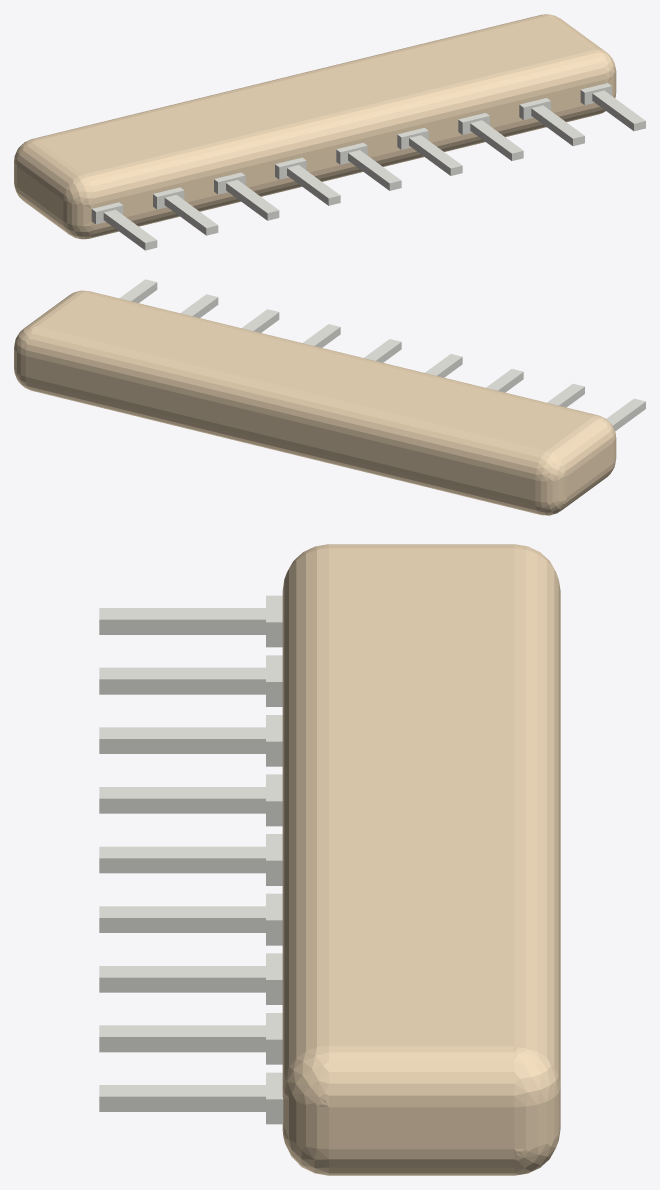
Rendered from R_Array_SIP9.glb.
3 views of the same model, one above another, from view 1: azimuth 30°, elevation 25°; view 2: azimuth 150°, elevation 25°; view 3: azimuth 270°, elevation 25° (orthographic). The views are drawn at different scales.
Parts seen in each view (by area): view 1: Shape_IndexedFaceSet.059, Shape_IndexedFaceSet.022, Shape_IndexedFaceSet.014, Shape_IndexedFaceSet.006, Shape_IndexedFaceSet.021, Shape_IndexedFaceSet.017, Shape_IndexedFaceSet.012, Shape_IndexedFaceSet.063, Shape_IndexedFaceSet.020, Shape_IndexedFaceSet.107, Shape_IndexedFaceSet.095, Shape_IndexedFaceSet.099 (+12 smaller); view 2: Shape_IndexedFaceSet.059, Shape_IndexedFaceSet.017, Shape_IndexedFaceSet.007, Shape_IndexedFaceSet.003, Shape_IndexedFaceSet.021, Shape_IndexedFaceSet.022, Shape_IndexedFaceSet.012, Shape_IndexedFaceSet.058, Shape_IndexedFaceSet.016, Shape_IndexedFaceSet.005, Shape_IndexedFaceSet.018, Shape_IndexedFaceSet.009 (+2 smaller); view 3: Shape_IndexedFaceSet.059, Shape_IndexedFaceSet.022, Shape_IndexedFaceSet.017, Shape_IndexedFaceSet.018, Shape_IndexedFaceSet.010, Shape_IndexedFaceSet.004, Shape_IndexedFaceSet.074, Shape_IndexedFaceSet.078, Shape_IndexedFaceSet.086, Shape_IndexedFaceSet.090, Shape_IndexedFaceSet.094, Shape_IndexedFaceSet.098 (+19 smaller).
Boxes of the visible parts, <box> form: Shape_IndexedFaceSet.059: <box>37,16,592,174</box>; Shape_IndexedFaceSet.022: <box>83,50,604,203</box>; Shape_IndexedFaceSet.014: <box>95,79,604,224</box>; Shape_IndexedFaceSet.006: <box>90,103,603,238</box>; Shape_IndexedFaceSet.021: <box>17,141,82,199</box>; Shape_IndexedFaceSet.017: <box>31,14,546,140</box>; Shape_IndexedFaceSet.012: <box>17,166,63,220</box>; Shape_IndexedFaceSet.063: <box>63,174,94,205</box>; Shape_IndexedFaceSet.020: <box>63,200,94,226</box>; Shape_IndexedFaceSet.107: <box>409,135,462,168</box>; Shape_IndexedFaceSet.095: <box>287,165,340,198</box>; Shape_IndexedFaceSet.099: <box>531,105,584,138</box>; Shape_IndexedFaceSet.059: <box>37,292,592,450</box>; Shape_IndexedFaceSet.017: <box>25,326,546,479</box>; Shape_IndexedFaceSet.007: <box>25,356,535,500</box>; Shape_IndexedFaceSet.003: <box>25,377,540,514</box>; Shape_IndexedFaceSet.021: <box>547,417,612,476</box>; Shape_IndexedFaceSet.022: <box>83,291,597,416</box>; Shape_IndexedFaceSet.012: <box>567,443,613,496</box>; Shape_IndexedFaceSet.058: <box>535,451,566,481</box>; Shape_IndexedFaceSet.016: <box>535,477,566,502</box>; Shape_IndexedFaceSet.005: <box>561,464,612,510</box>; Shape_IndexedFaceSet.018: <box>25,292,82,327</box>; Shape_IndexedFaceSet.009: <box>535,497,566,515</box>; Shape_IndexedFaceSet.059: <box>329,548,514,1045</box>; Shape_IndexedFaceSet.022: <box>282,548,328,1086</box>; Shape_IndexedFaceSet.017: <box>514,548,560,1087</box>; Shape_IndexedFaceSet.018: <box>329,1045,514,1107</box>; Shape_IndexedFaceSet.010: <box>329,1107,514,1149</box>; Shape_IndexedFaceSet.004: <box>329,1149,514,1175</box>; Shape_IndexedFaceSet.074: <box>99,619,265,634</box>; Shape_IndexedFaceSet.078: <box>99,1096,265,1111</box>; Shape_IndexedFaceSet.086: <box>99,679,265,694</box>; Shape_IndexedFaceSet.090: <box>99,858,265,873</box>; Shape_IndexedFaceSet.094: <box>99,798,265,813</box>; Shape_IndexedFaceSet.098: <box>99,1037,265,1052</box>.
Size of the model in its own units: 9 by 0.988 by 3.27.
